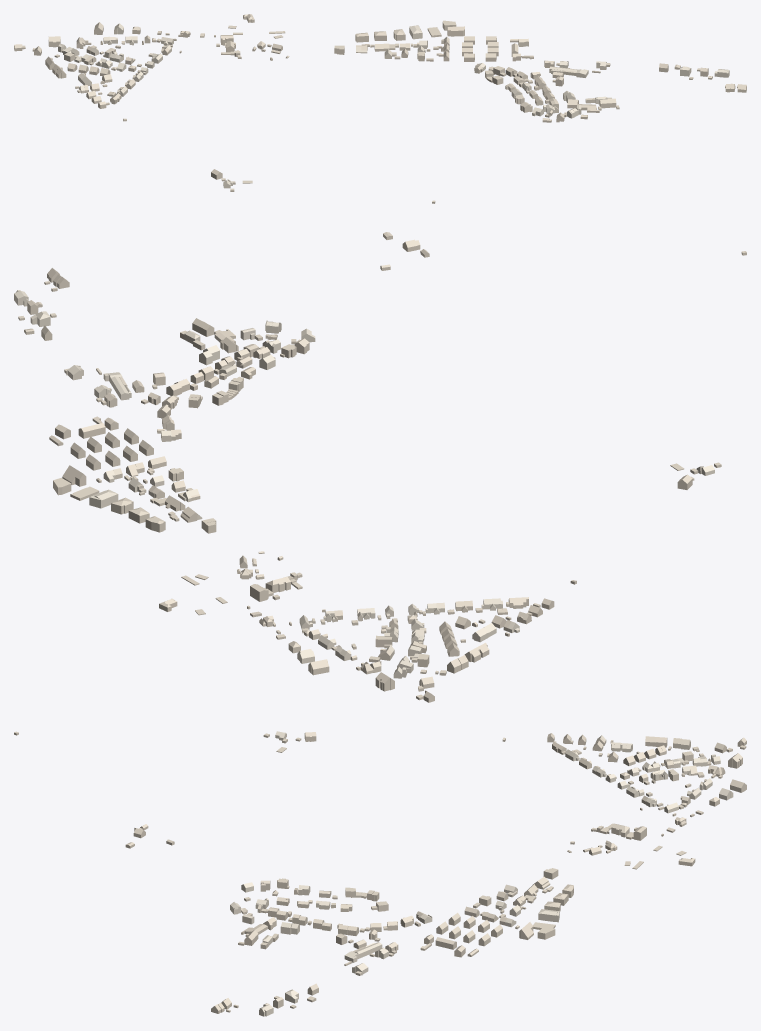
3 renders of one model, top to bottom at view 1: azimuth 30°, elevation 25°; view 2: azimuth 150°, elevation 25°; view 3: azimuth 270°, elevation 25°, orthographic. The views are drawn at different scales.
Size of the model in its own units: 880 by 109 by 971.
